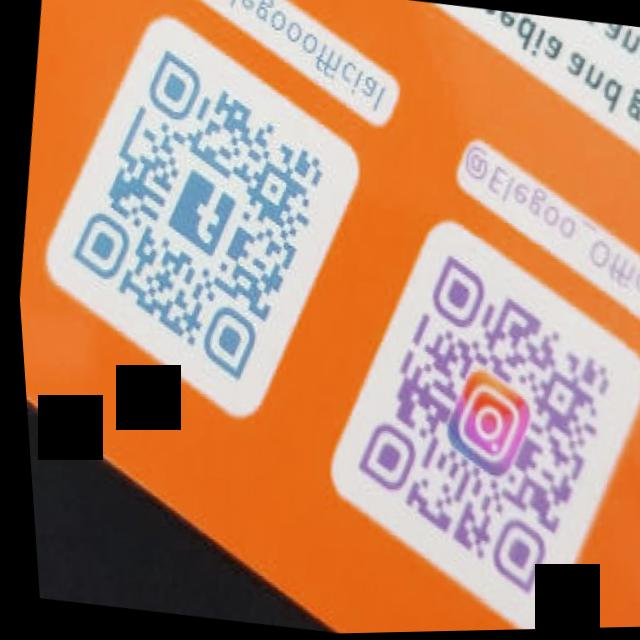QR_CODE: (312, 222, 640, 623), (34, 26, 361, 408)
